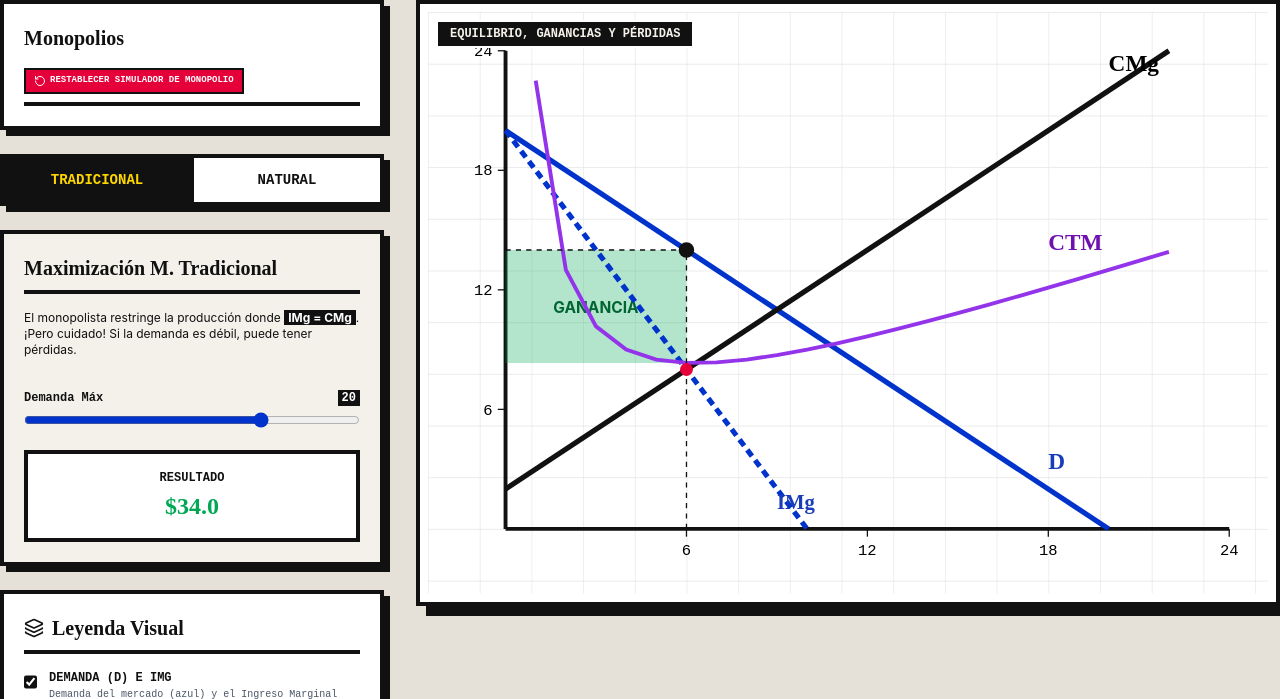
Test: Monopolio integration › renders selected root and faded alternative for natural monopoly regulation
The width and height of the screenshot is (1280, 699).
Click the button "Natural". click: x=285, y=180
box: x1=190 y1=158 x2=380 y2=202
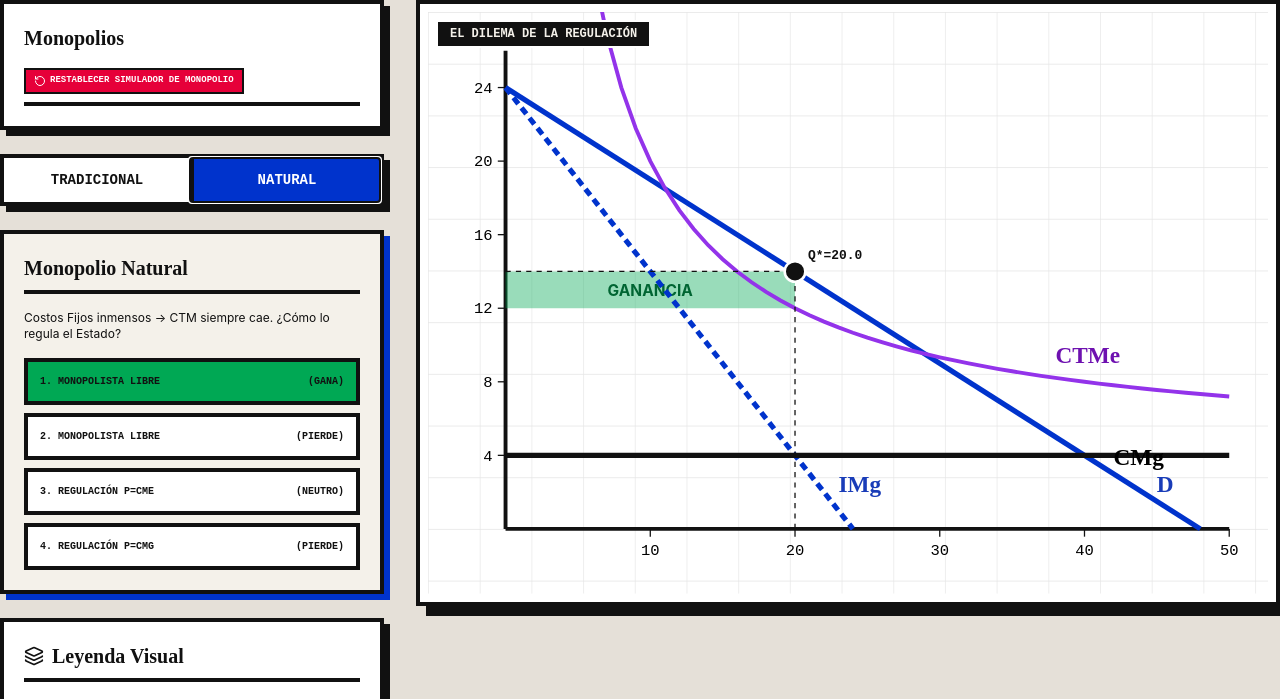
Click the text "3. Regulación P=CMe". click: x=97, y=491
box: x1=40 y1=484 x2=154 y2=498
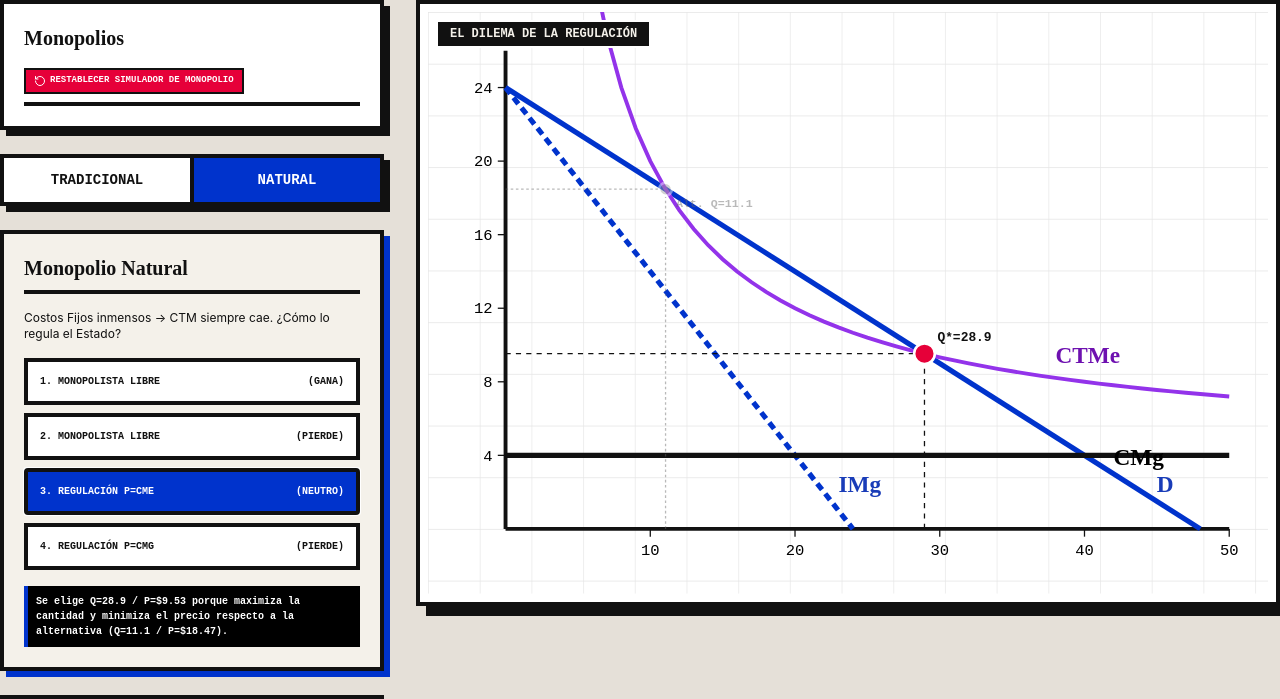
Expected: the text "Q*" is shown, x1=937 y1=330 x2=992 y2=345
Expected: the text "maximiza la cantidad y minimiza el precio" is shown, x1=36 y1=596 x2=300 y2=636
